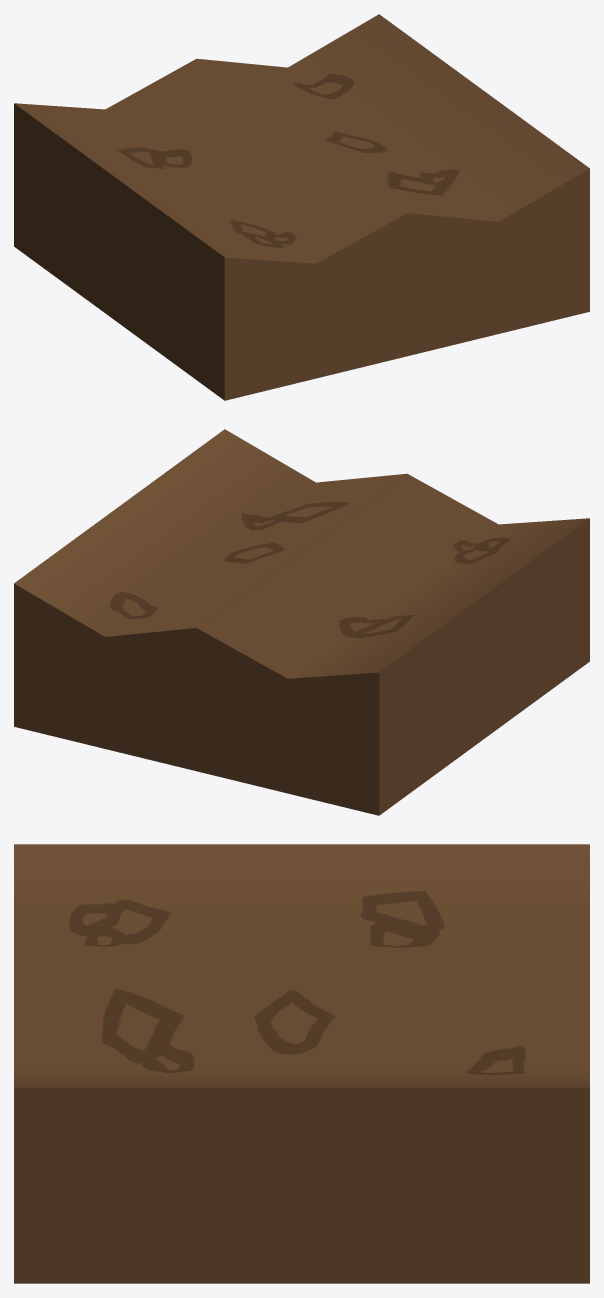
The model's file is TilledWatered.FBX.
3 renders of one model, top to bottom at view 1: azimuth 30°, elevation 25°; view 2: azimuth 150°, elevation 25°; view 3: azimuth 270°, elevation 25°, orthographic. The views are drawn at different scales.
Visible parts, largest first — view 1: Box001; view 2: Box001; view 3: Box001.
Part boxes in pixels (left/top/right/bottom): Box001: left=14, top=14, right=589, bottom=400; Box001: left=14, top=429, right=589, bottom=815; Box001: left=14, top=844, right=589, bottom=1283.
Size of the model in its own units: 24 by 9 by 24.
Materials: 1 (1 with a texture image).
